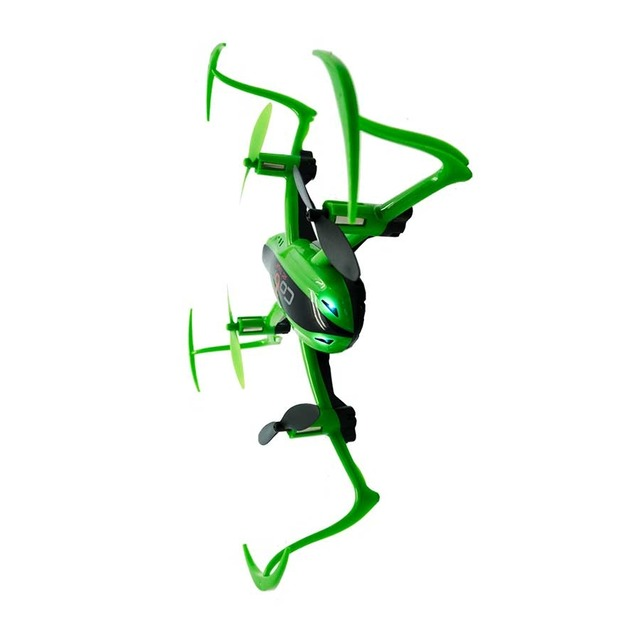drone: (183, 43, 474, 591)
